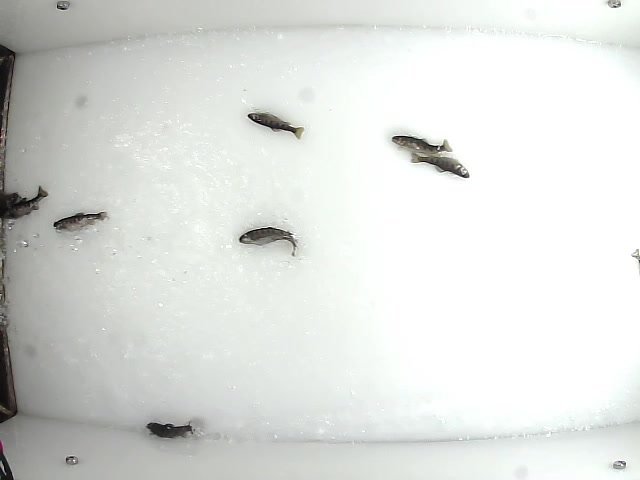fish: (236, 226, 299, 258), (406, 151, 471, 182), (1, 184, 48, 221), (244, 111, 306, 138), (50, 208, 112, 234), (388, 134, 452, 156), (144, 421, 198, 441)
